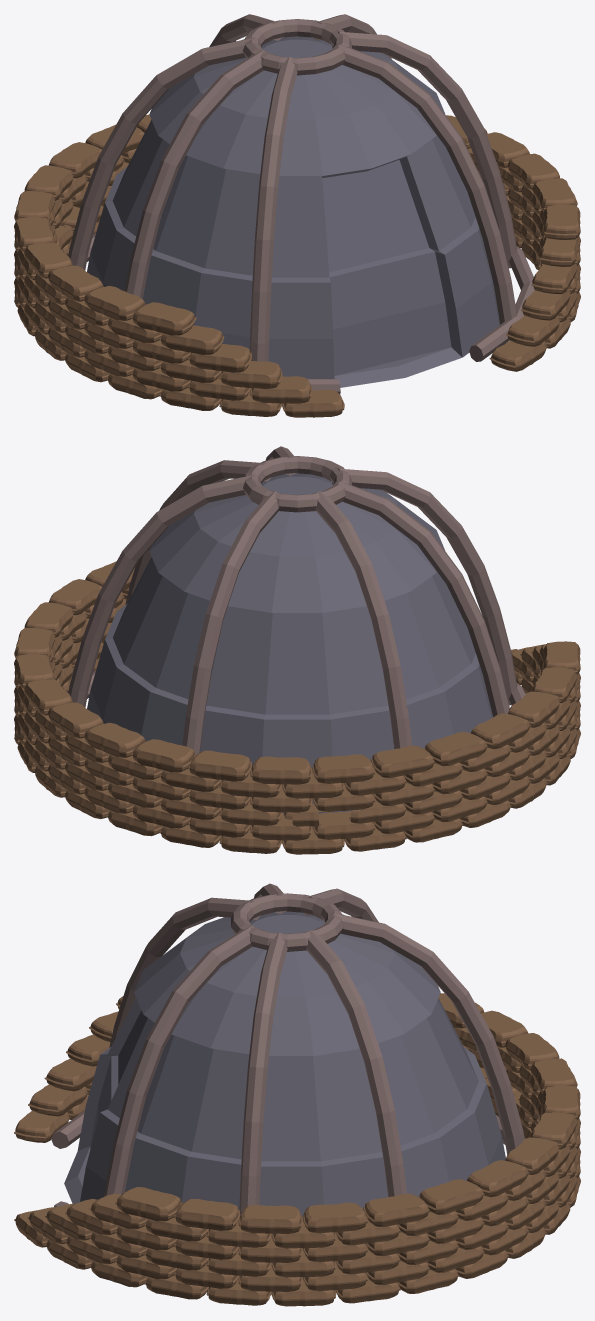
The model's file is garrisonlvl0.dae.
3 views of the same model, one above another, from view 1: azimuth 30°, elevation 25°; view 2: azimuth 150°, elevation 25°; view 3: azimuth 270°, elevation 25° (orthographic). The views are drawn at different scales.
Parts seen in each view (by area): view 1: structure_bar_008; view 2: structure_bar_008; view 3: structure_bar_008.
Boxes of the visible parts, x1,y1,x2,y2 form: structure_bar_008: (14,14,580,417); structure_bar_008: (14,446,580,854); structure_bar_008: (14,883,580,1306).
Size of the model in its own units: 7.34 by 7.09 by 3.73.
